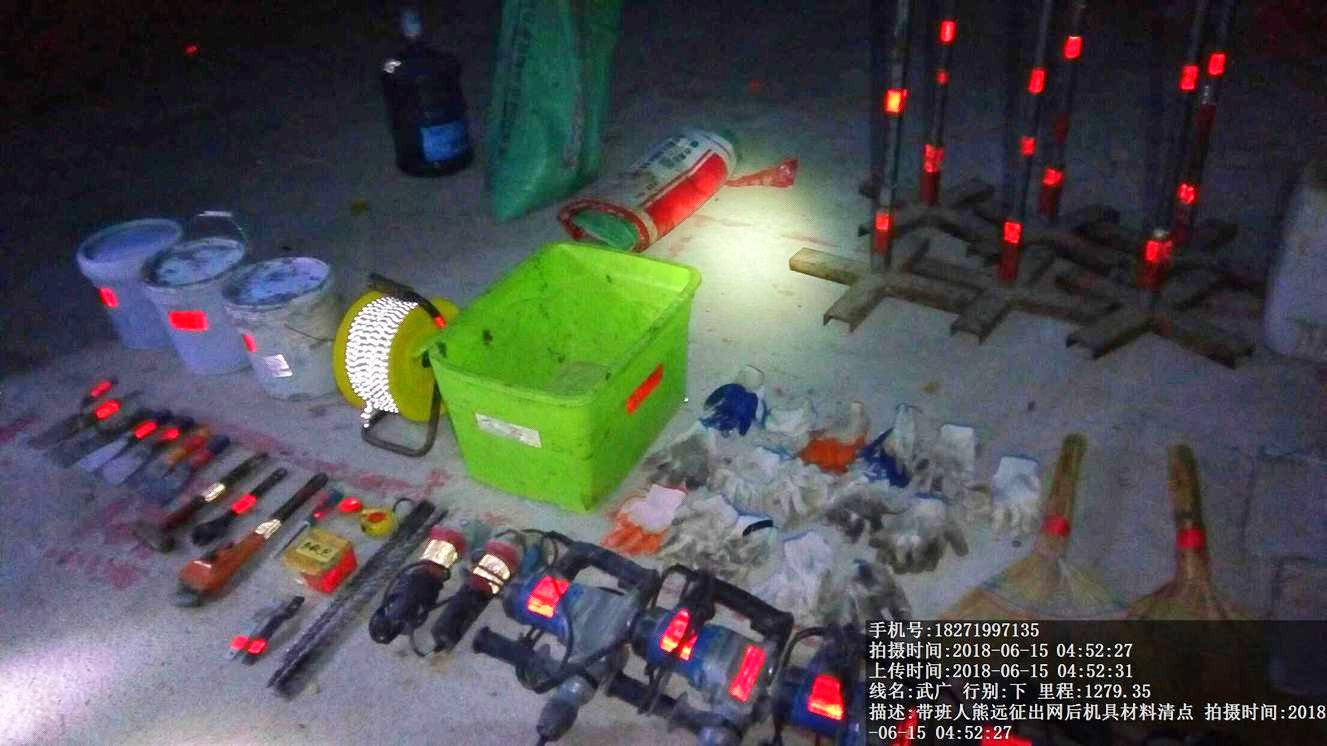DZ: (512, 530, 629, 732), (648, 572, 773, 722)
SB: (951, 413, 1127, 614), (1136, 437, 1250, 623)
T: (459, 246, 698, 494)
